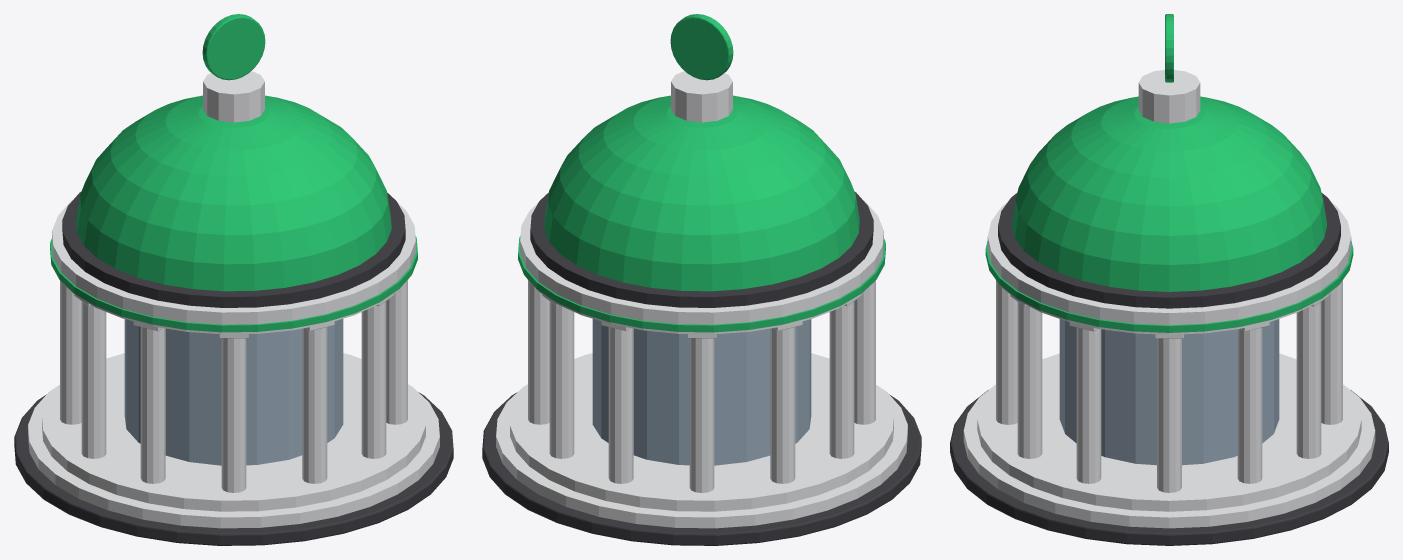
File: rotunda.glb
3 views of the same model, side by side, from view 1: azimuth 30°, elevation 25°; view 2: azimuth 150°, elevation 25°; view 3: azimuth 270°, elevation 25° (orthographic).
Visible parts, largest first — view 1: rotunda, spin_finial; view 2: rotunda, spin_finial; view 3: rotunda, spin_finial.
Boxes of the visible parts, bbox=[...] form: rotunda: bbox=[14, 71, 453, 545]; spin_finial: bbox=[202, 14, 265, 80]; rotunda: bbox=[482, 71, 921, 545]; spin_finial: bbox=[670, 14, 733, 80]; rotunda: bbox=[950, 70, 1388, 545]; spin_finial: bbox=[1165, 14, 1173, 82].
Bounding box in the file's own units: 12.8 × 14.05 × 12.8.
